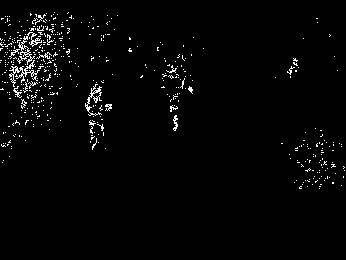person: (81, 82, 115, 153)
